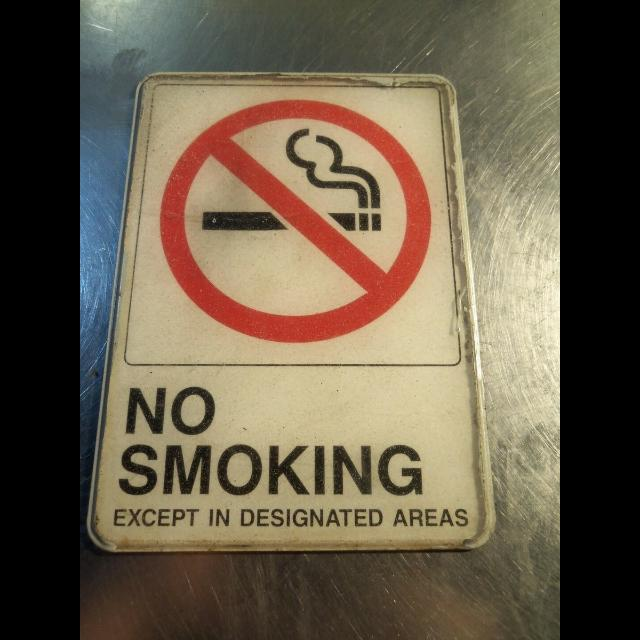cam hut thuoc: (88, 73, 493, 551)
